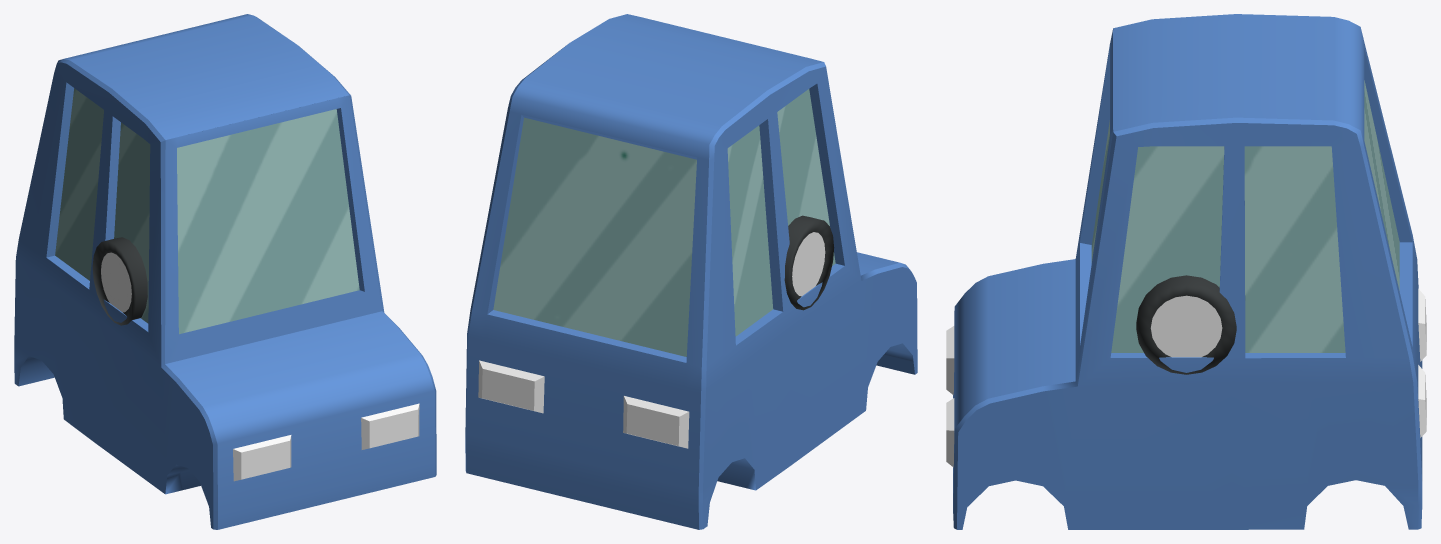
File: car_2_B.fbx
3 renders of one model, left to right at view 1: azimuth 30°, elevation 25°; view 2: azimuth 150°, elevation 25°; view 3: azimuth 270°, elevation 25°, orthographic. The views are drawn at different scales.
Visible parts, largest first — view 1: car_2_chasis_B, car_2_right_wheel_B, car_2_back_wheel_B; view 2: car_2_chasis_B, car_2_right_wheel_B, car_2_back_wheel_B; view 3: car_2_chasis_B, car_2_left_wheel_B, car_2_back_wheel_B.
Part boxes in pixels (x1,y1,x2,y2): car_2_chasis_B: (14, 14, 436, 529); car_2_right_wheel_B: (92, 241, 147, 324); car_2_back_wheel_B: (92, 237, 147, 325); car_2_chasis_B: (465, 14, 917, 529); car_2_right_wheel_B: (785, 219, 834, 308); car_2_back_wheel_B: (784, 215, 833, 310); car_2_chasis_B: (946, 14, 1426, 529); car_2_left_wheel_B: (1136, 283, 1236, 372); car_2_back_wheel_B: (1136, 275, 1236, 374).
Bounding box in the file's own units: 80.78 × 120 × 130.
